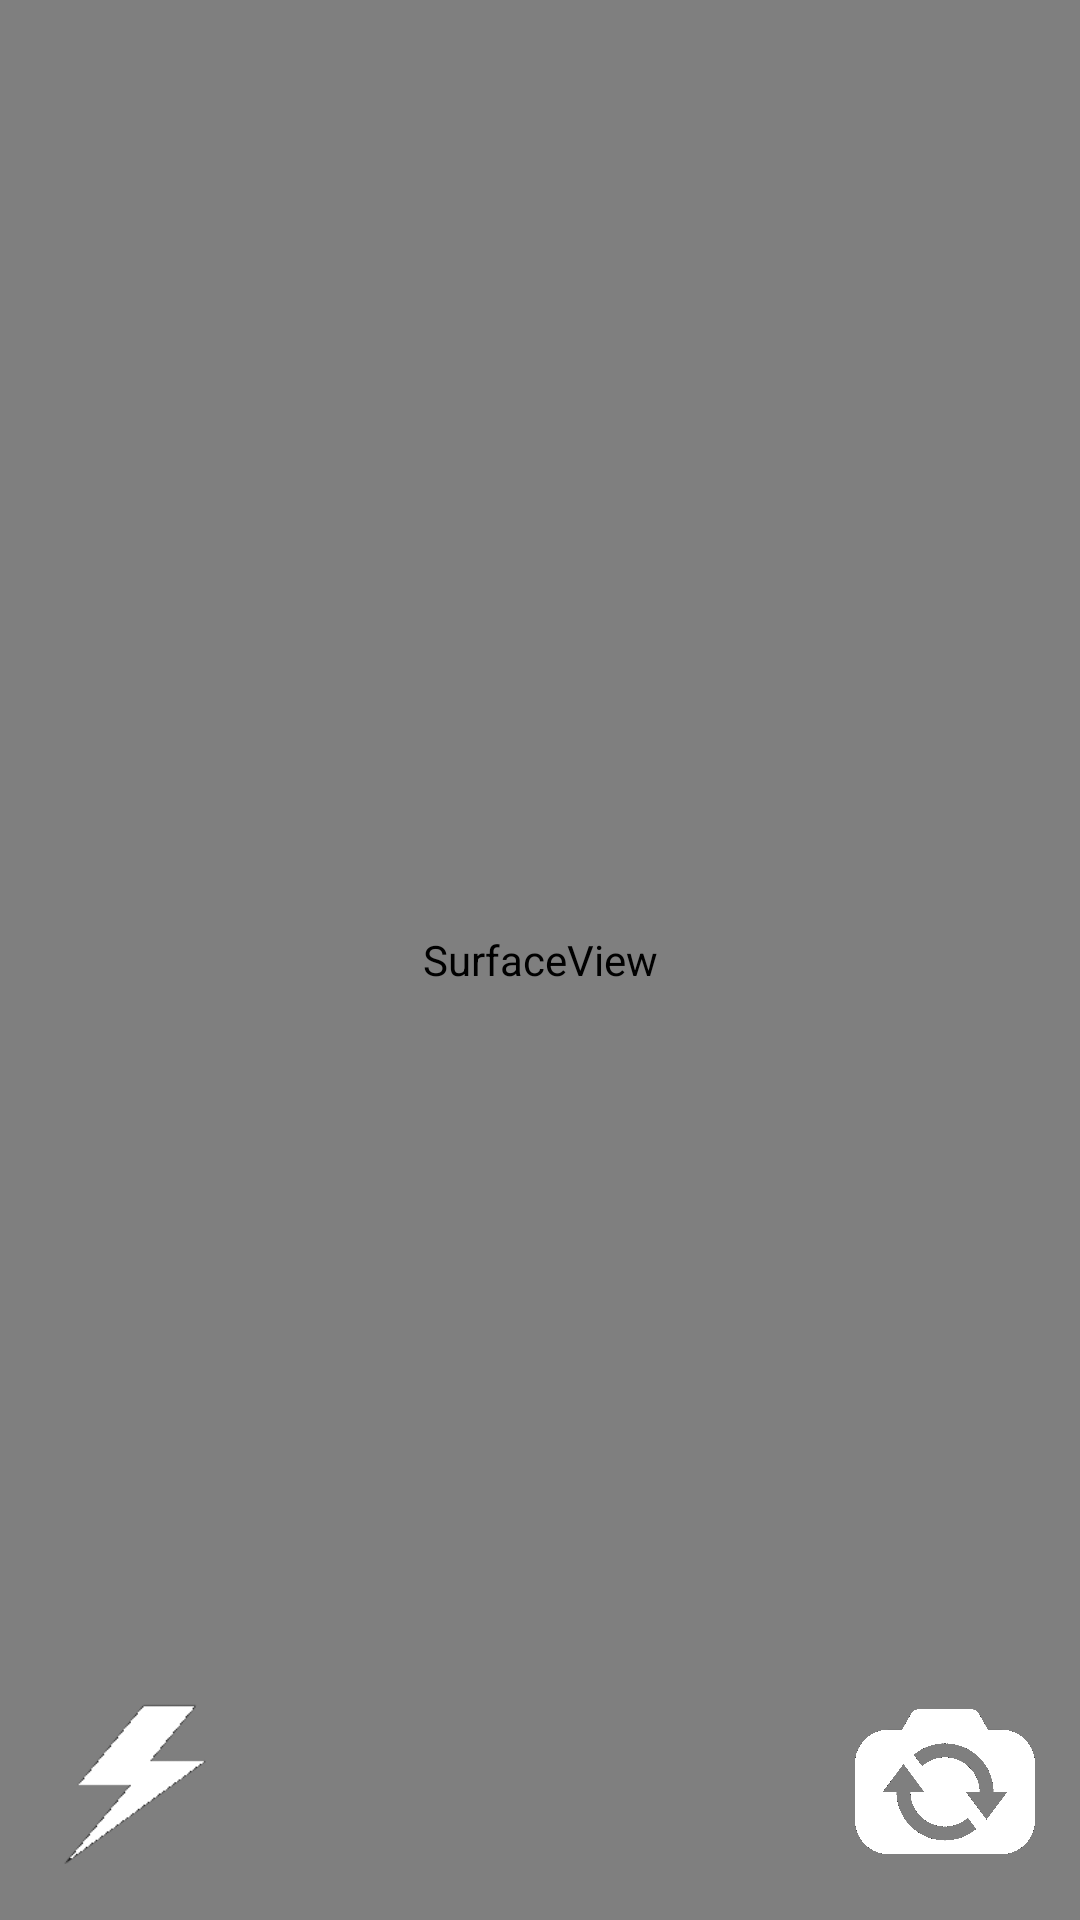

Named icons in this screenshot (1080*1920) and their centers, (x,y):
camera switch: (945,1781)
flash on: (135,1784)
